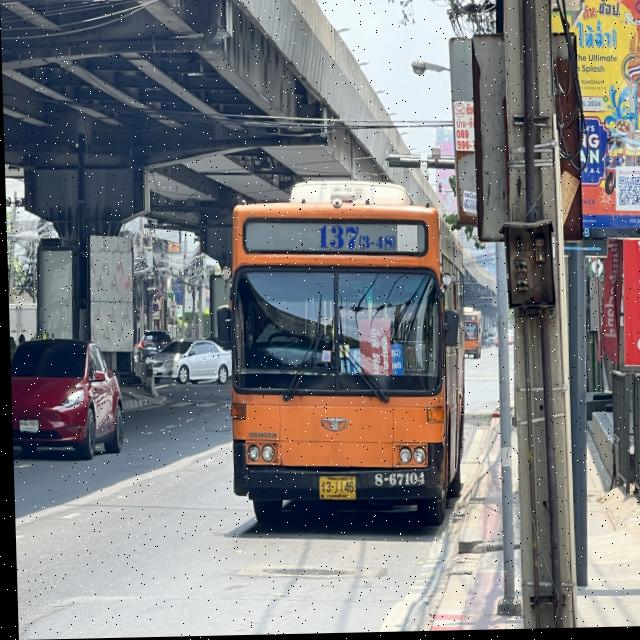BMTA-bus: (216, 166, 471, 536), (462, 307, 481, 365)
Bus-Line-Number: (311, 222, 395, 255)
Destination-Sign-Normal: (340, 347, 402, 378)
